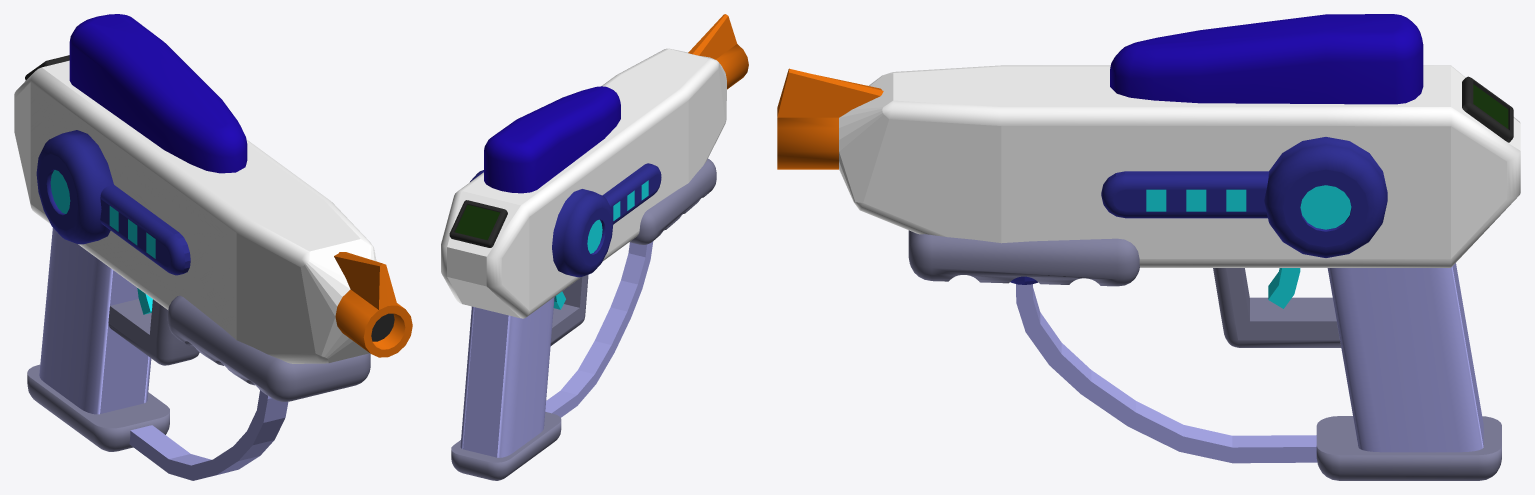
The model's file is LaserPistol.fbx.
The picture shows the model from 3 angles, left to right: view 1: azimuth 30°, elevation 25°; view 2: azimuth 150°, elevation 25°; view 3: azimuth 270°, elevation 25°; orthographic projection. The views are drawn at different scales.
Visible parts, largest first — view 1: LaserPistol, Hopper, Grip, Strap, Glowing; view 2: LaserPistol, Hopper, Strap, Grip, Glowing; view 3: LaserPistol, Hopper, Grip, Strap, Glowing.
Boxes of the visible parts, <box> form: LaserPistol: <box>14,55,412,451</box>; Hopper: <box>69,14,247,173</box>; Grip: <box>167,295,370,402</box>; Strap: <box>129,390,288,480</box>; Glowing: <box>50,170,155,314</box>; LaserPistol: <box>441,14,748,480</box>; Hopper: <box>484,86,620,193</box>; Strap: <box>545,241,653,417</box>; Grip: <box>629,158,716,244</box>; Glowing: <box>553,180,648,309</box>; LaserPistol: <box>777,65,1520,480</box>; Hopper: <box>1110,14,1423,104</box>; Grip: <box>908,230,1139,286</box>; Strap: <box>1016,284,1317,463</box>; Glowing: <box>1146,185,1351,308</box>.
Bounding box in the file's own units: 213 × 530 × 802.
Materials: 3 (3 with a texture image).
